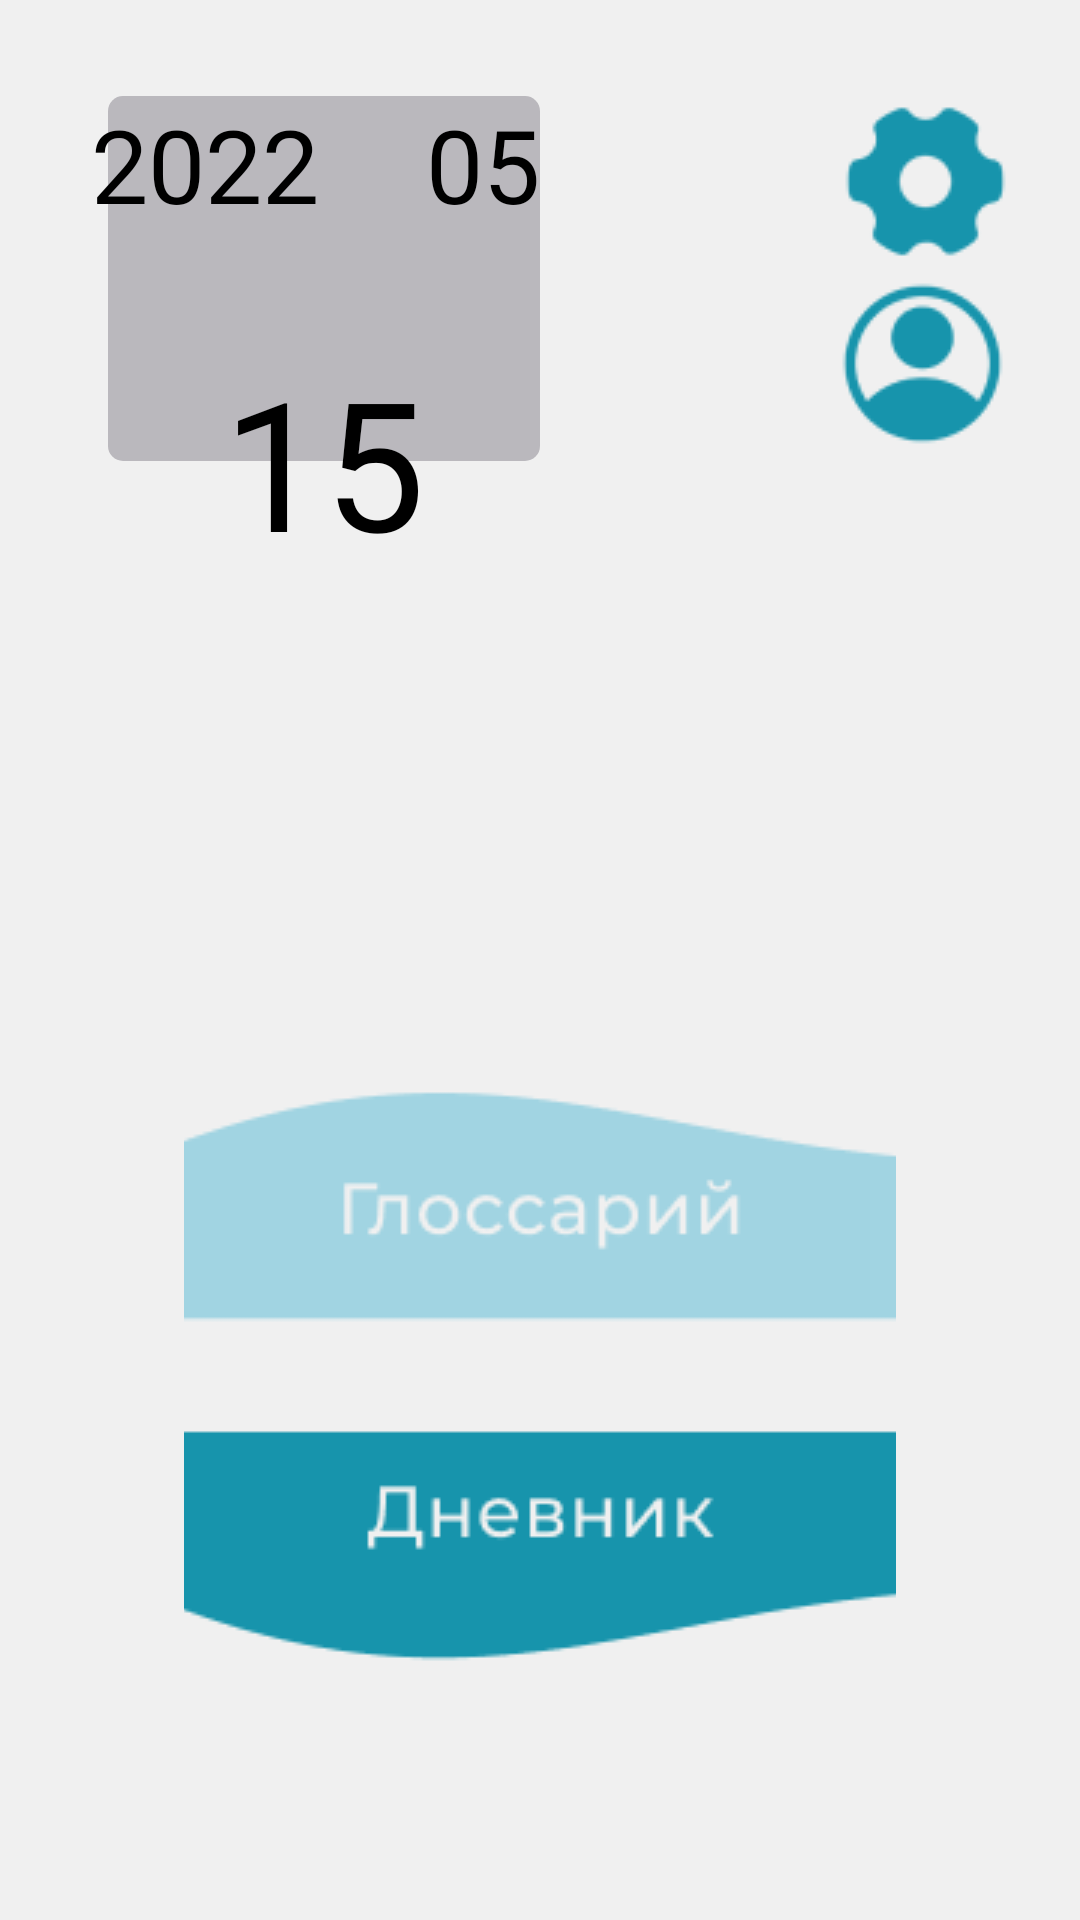

Icon bounding boxes for this 1080*1920 phone screenshot, format box(x1, y1, x2, y2):
profile: box(843, 284, 1002, 443)
settings: box(846, 107, 1005, 256)
